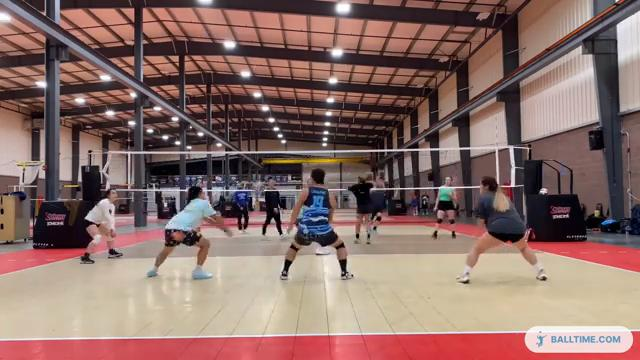ricezione: (144, 181, 233, 281)
